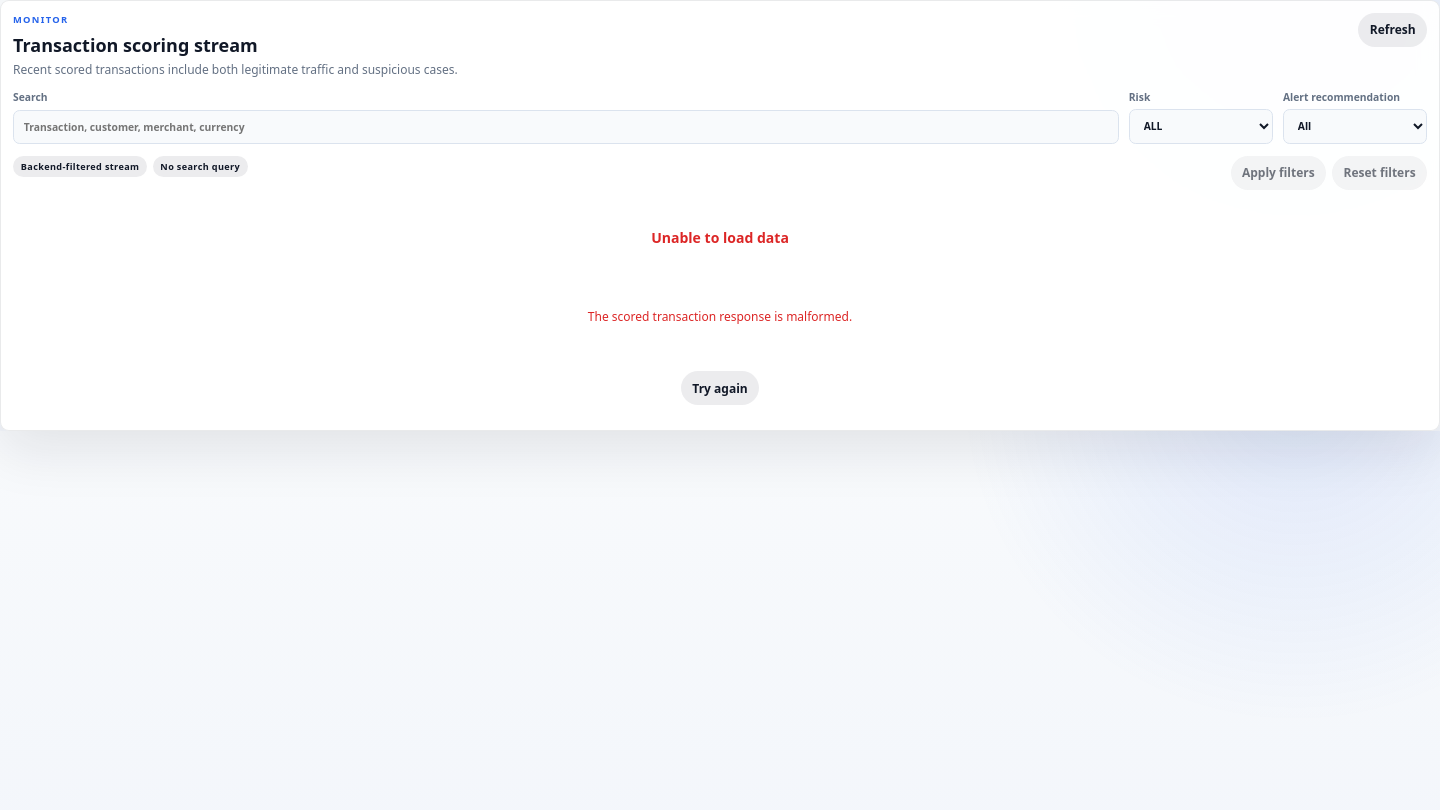
Test: transaction scoring read boundary with real provider, API client, hooks and views › rejects an invalid scored fraudScore and recovers through the real workspace retry
The image size is (1440, 810).
Expected: the message shows "The scored transaction response is malformed.", [588,308,852,325]
Click the button "Try again" at point(720, 388), box [681,371,759,405]
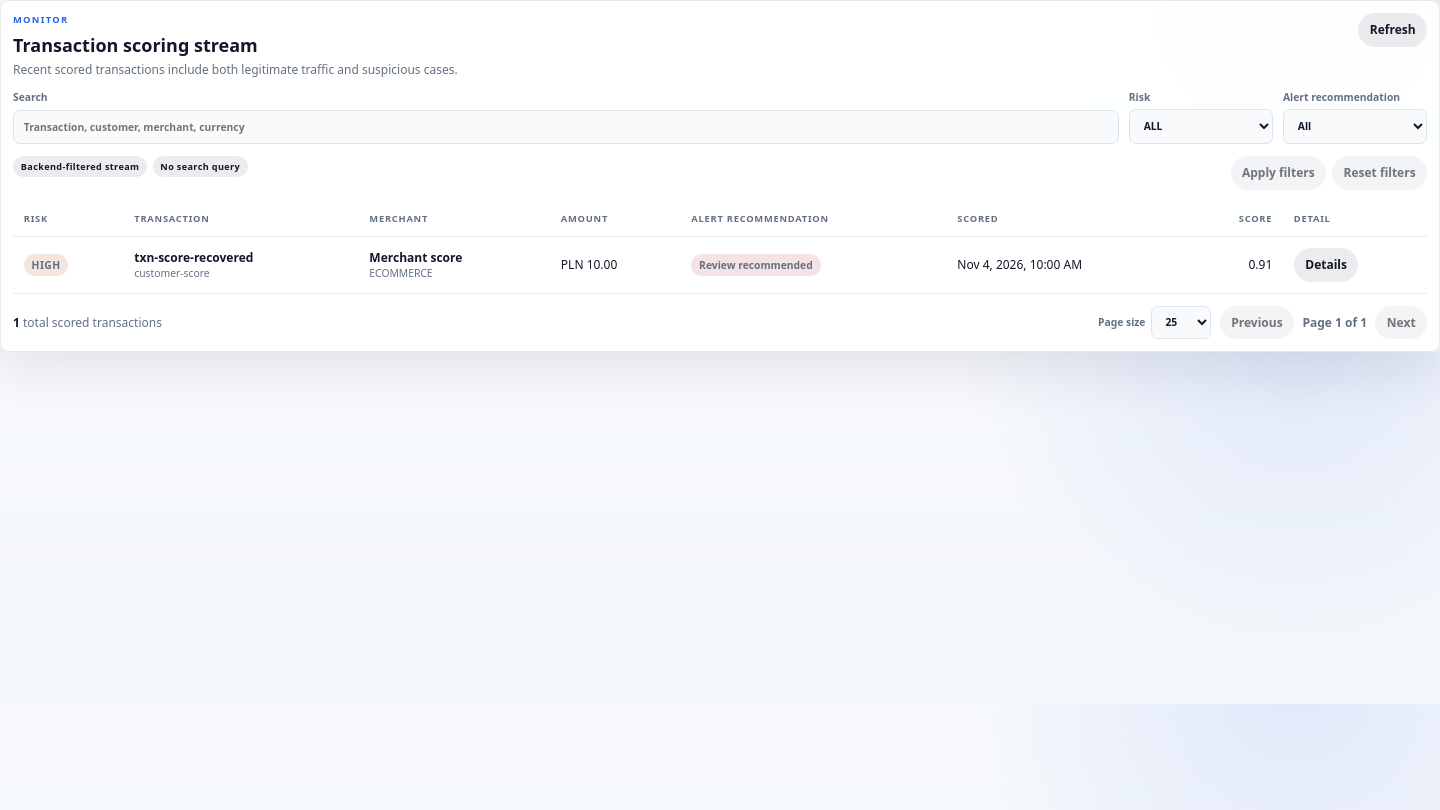
Expected: the text "txn-score-recovered" is shown, [134,249,253,266]
Expected: the text "0.91" is shown, [1191,237,1283,293]
